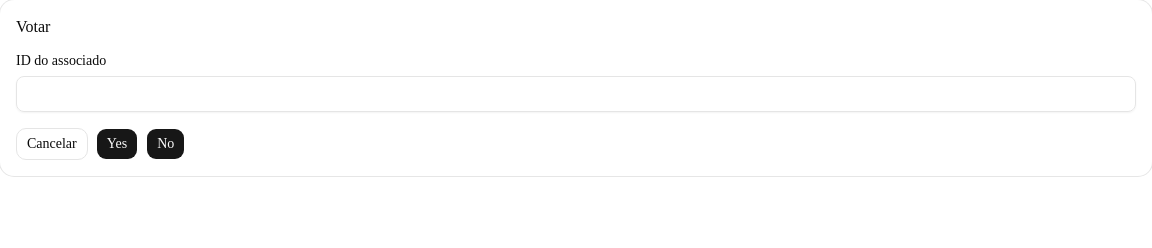
Test case: FormScreen › shows success message after a successful submission
This screenshot has width=1152, height=248.
Click the button "Yes": (117, 144) [96, 128, 138, 160]
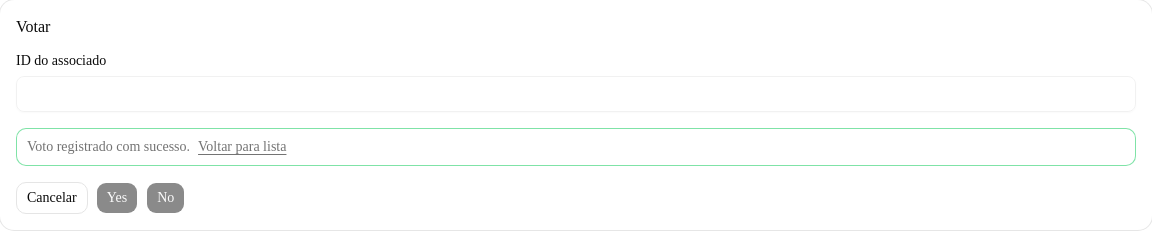
Expected: the text "Voto registrado com sucesso." is shown, [27, 137, 190, 157]
